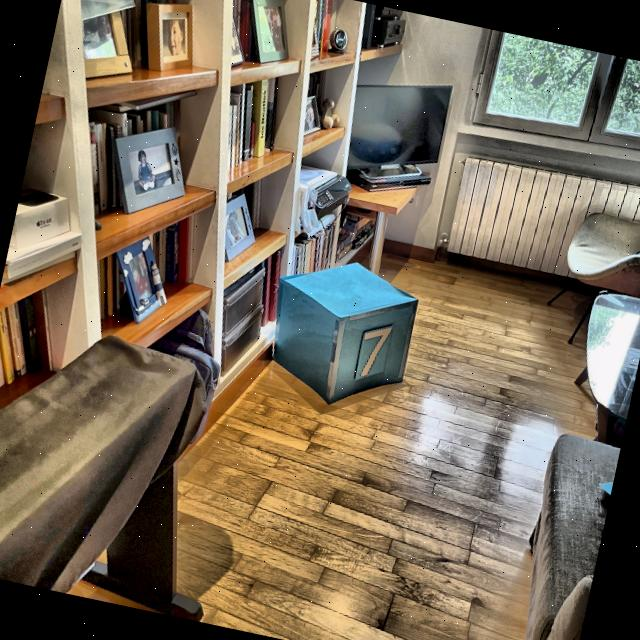blue box: (256, 248, 423, 420)
seven: (352, 320, 394, 382)
